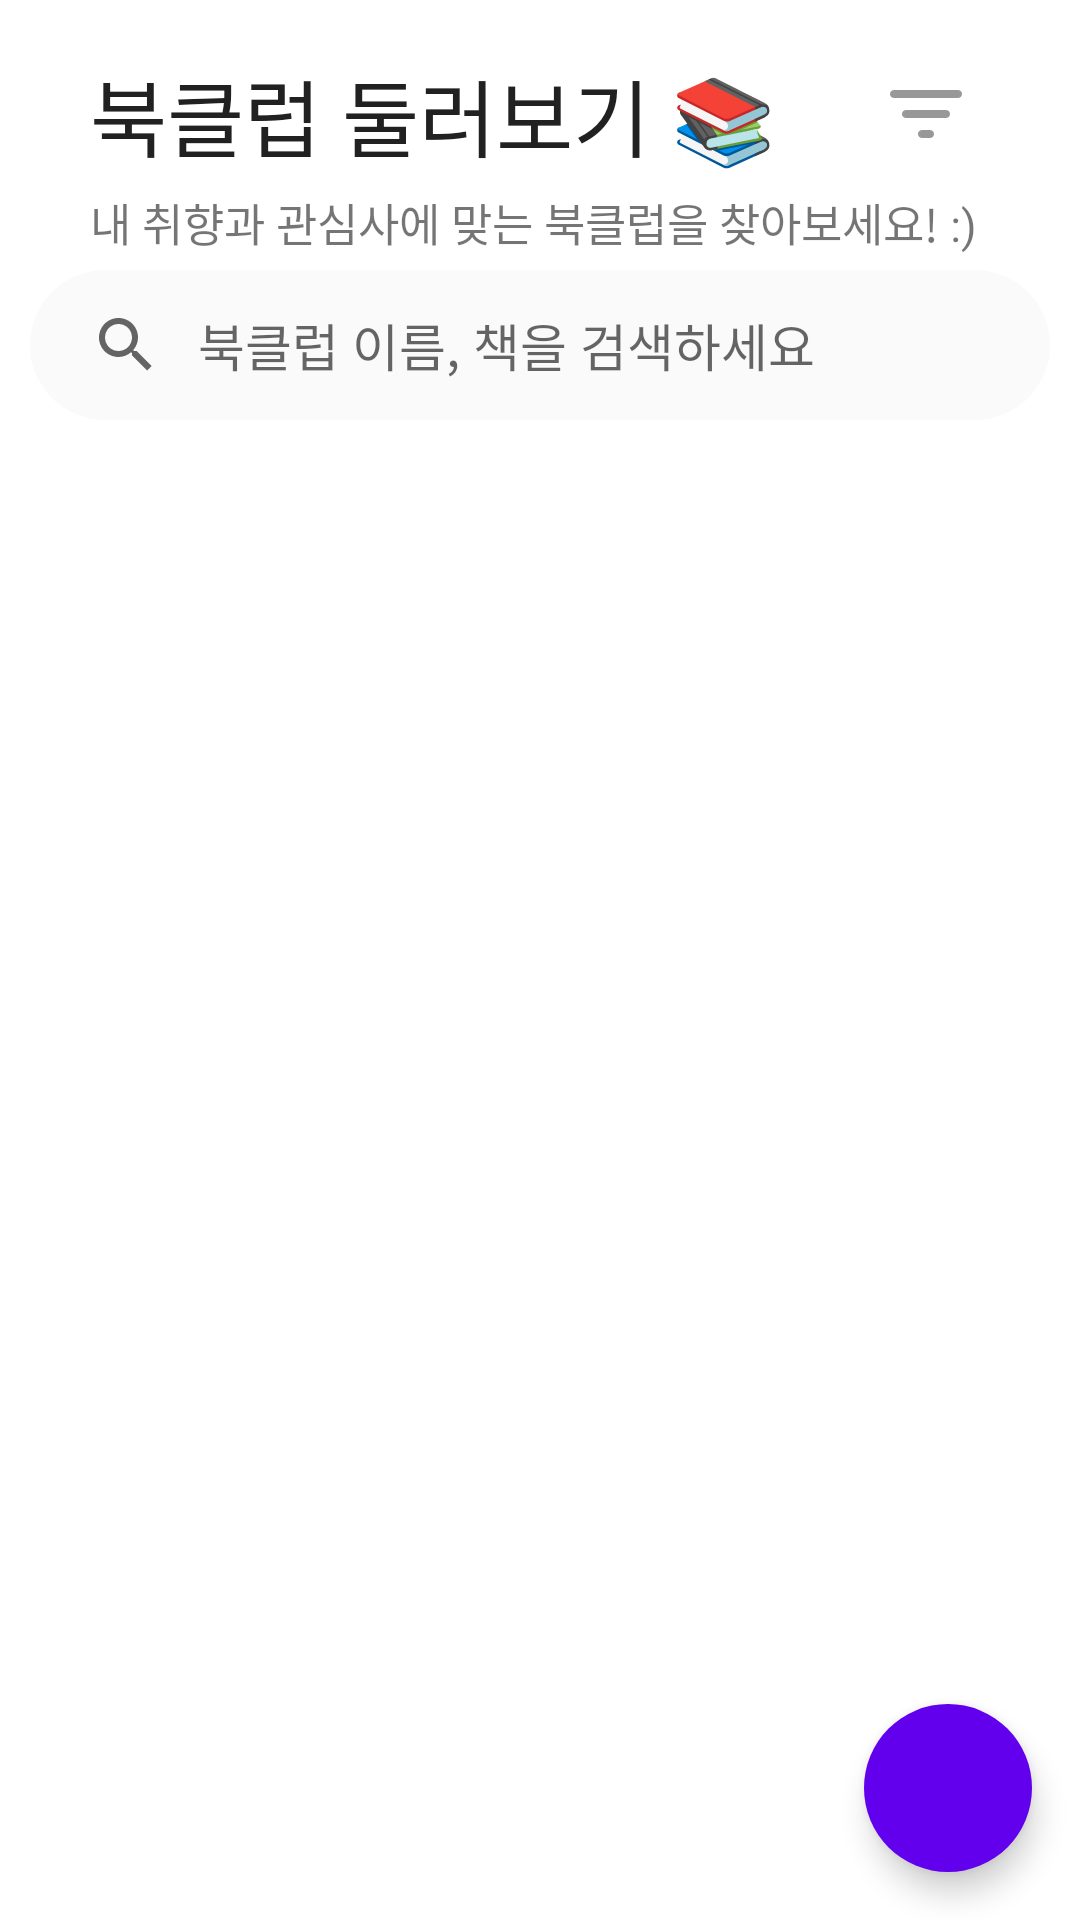

Icon bounding boxes for this 1080px×1920px phone screenshot, format (x1, y1, x2, y2):
filter list: (890, 90, 962, 138)
